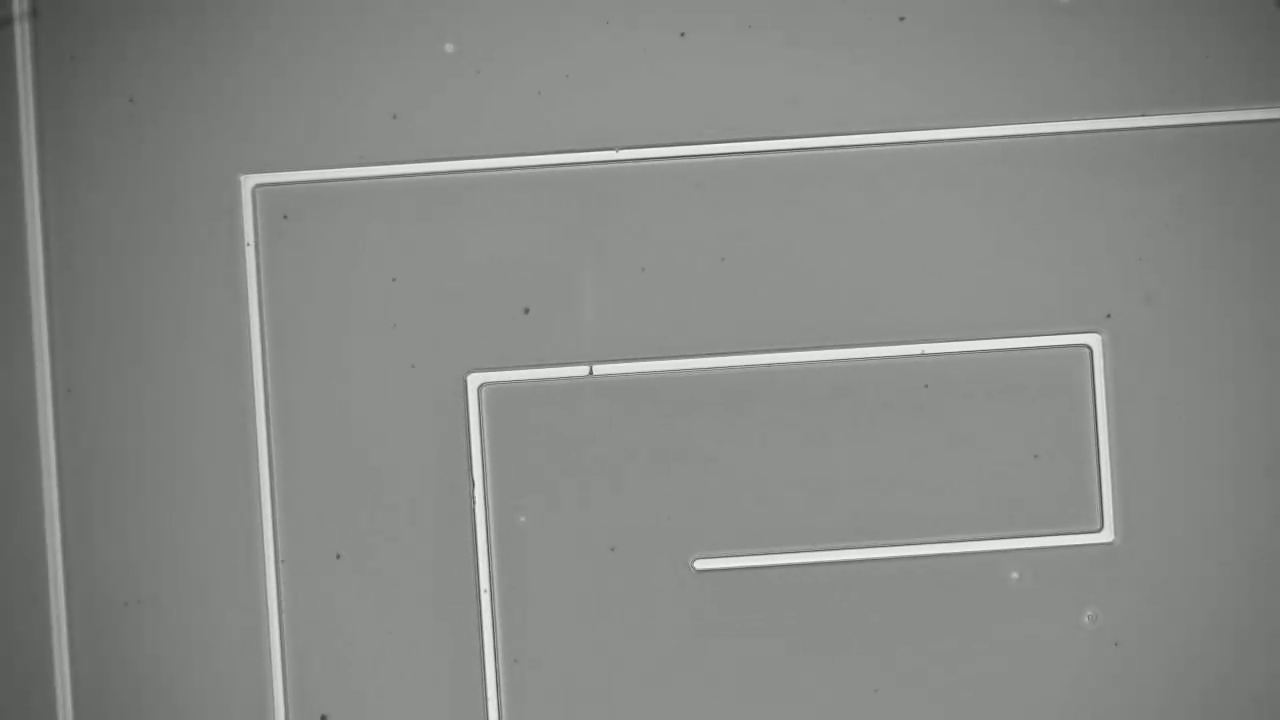stains_enbedded: (583, 360, 599, 382)
